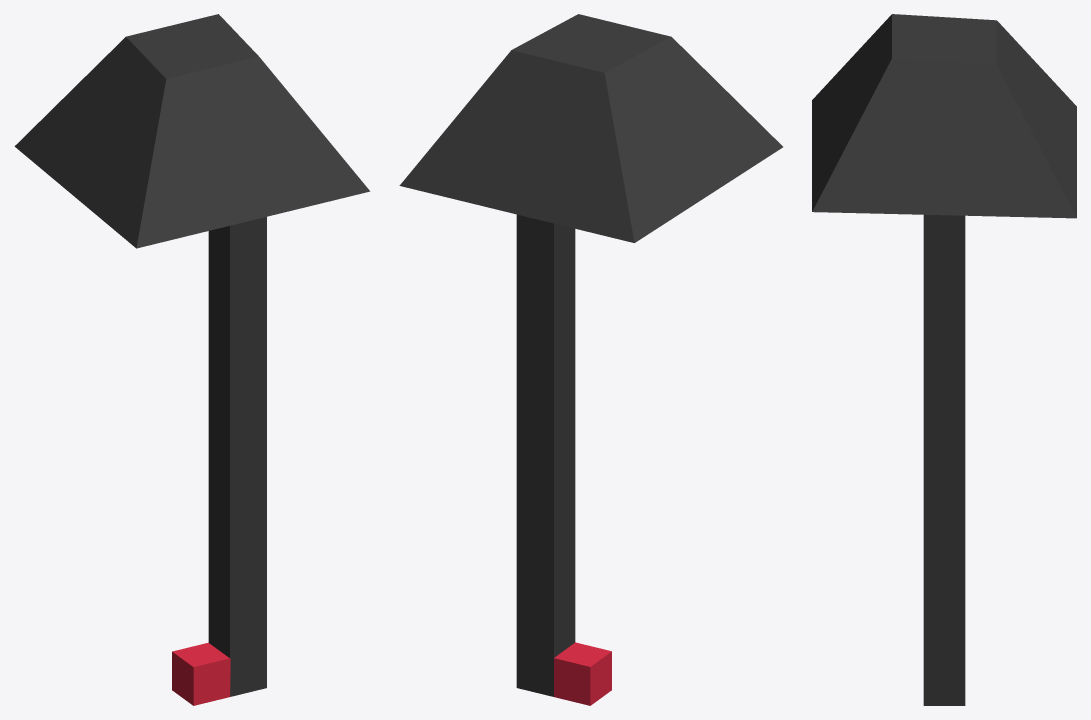
Rendered from Light.fbx.
3 renders of one model, left to right at view 1: azimuth 30°, elevation 25°; view 2: azimuth 150°, elevation 25°; view 3: azimuth 270°, elevation 25°, orthographic. The views are drawn at different scales.
Parts seen in each view (by area): view 1: Light; view 2: Light; view 3: Light.
Boxes of the visible parts, <box> form: Light: <box>14,14,370,705</box>; Light: <box>399,14,782,705</box>; Light: <box>812,14,1076,705</box>.
Bounding box in the file's own units: 267 × 670 × 253.
